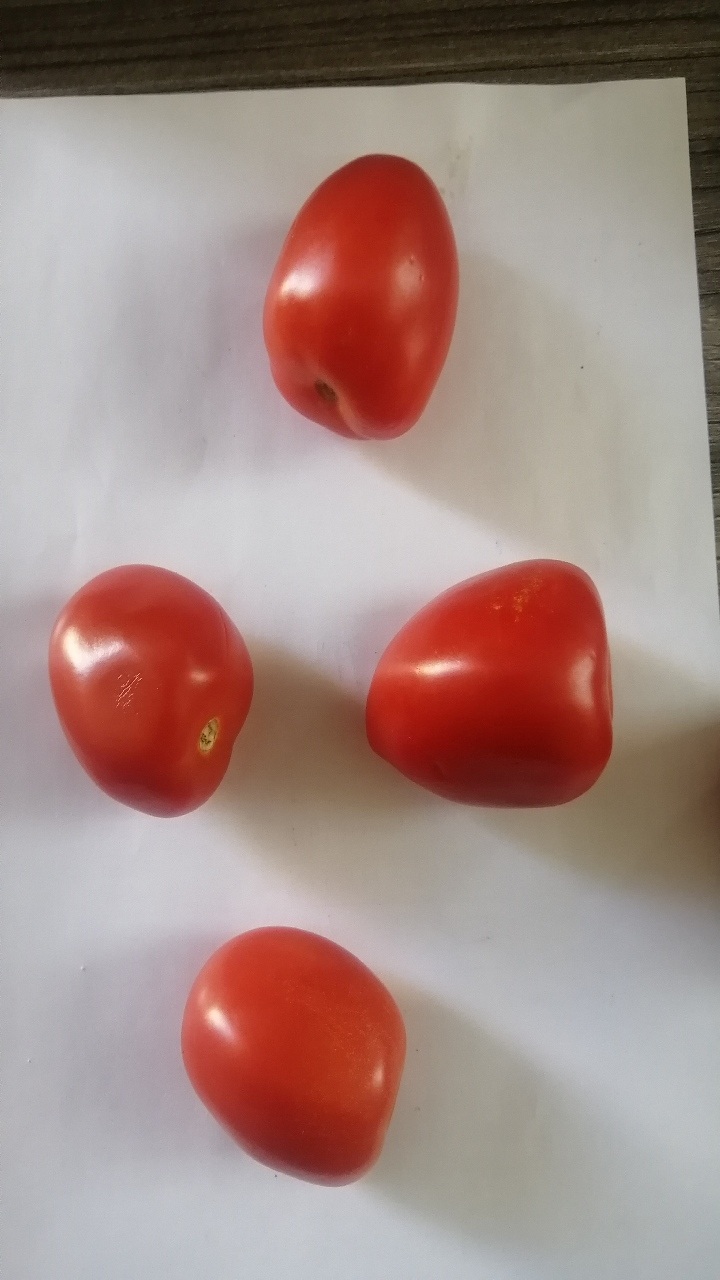tomateRojo: (152, 888, 435, 1209), (332, 537, 637, 820), (241, 131, 475, 452), (35, 532, 271, 842)
